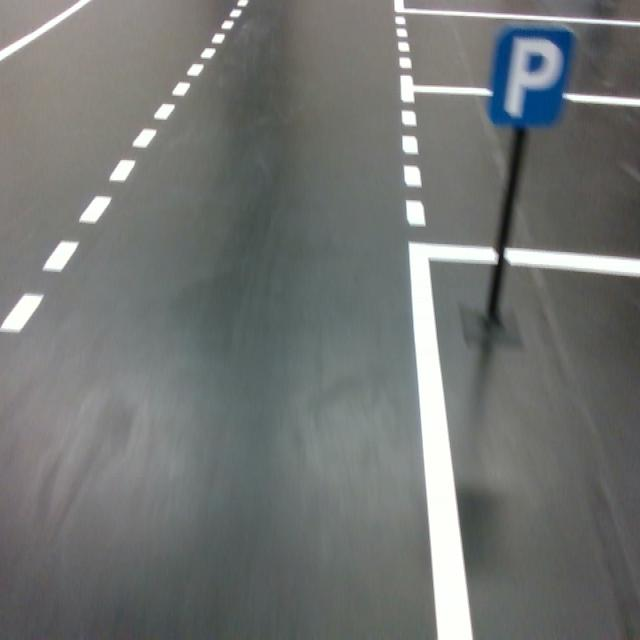parking-sign: (488, 24, 574, 127)
